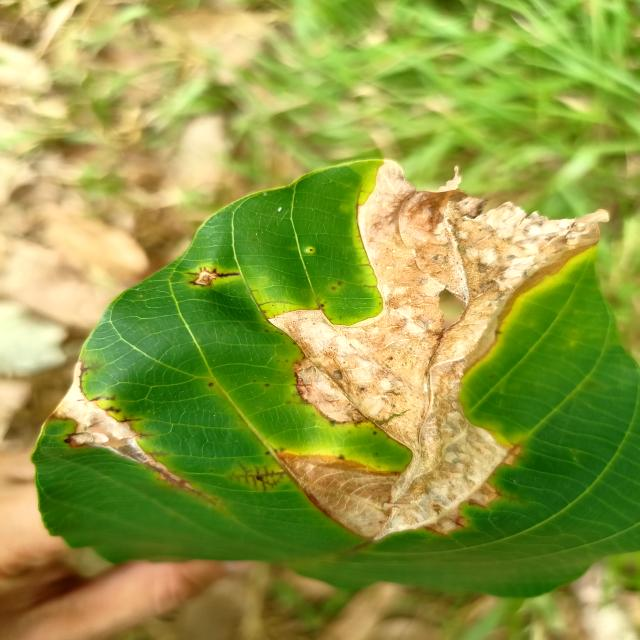Corynespora: (52, 360, 214, 506), (227, 463, 285, 493), (184, 266, 242, 288)
Leaf-Blight: (266, 158, 612, 541), (55, 362, 144, 466)
